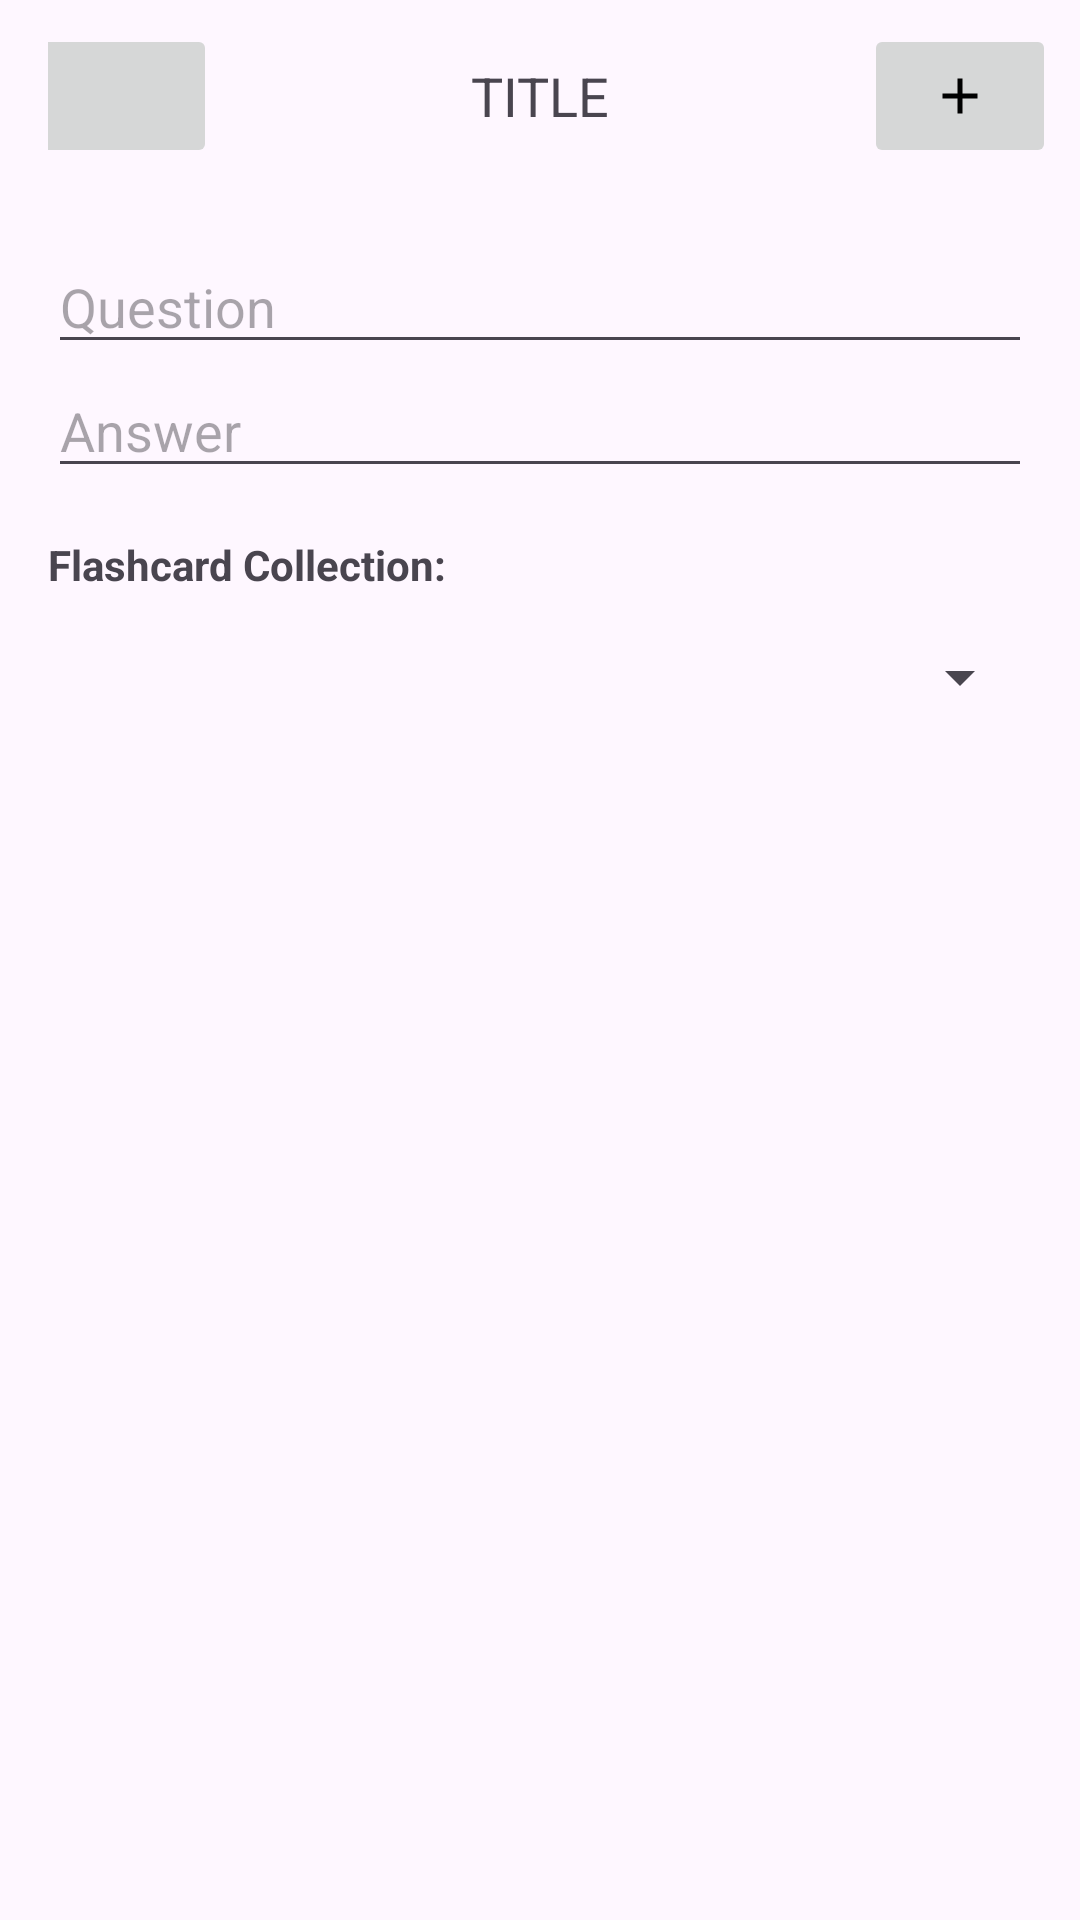

Where icons sit on this 1080x1920 app screen, as (x1, y1, x2, y2):
add: (876, 42, 1044, 150)
